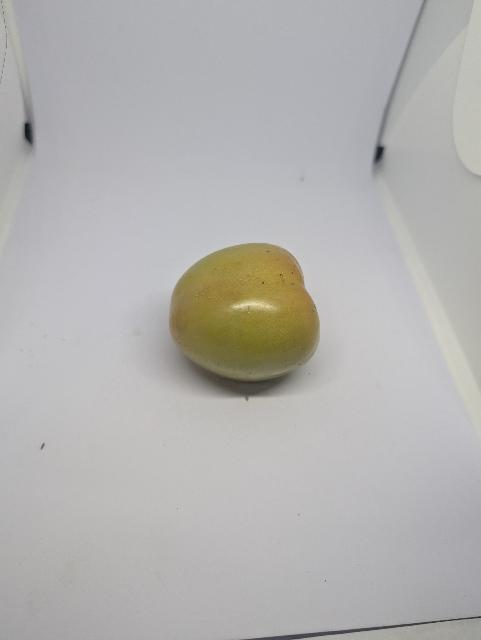breaker: (162, 245, 328, 386)
